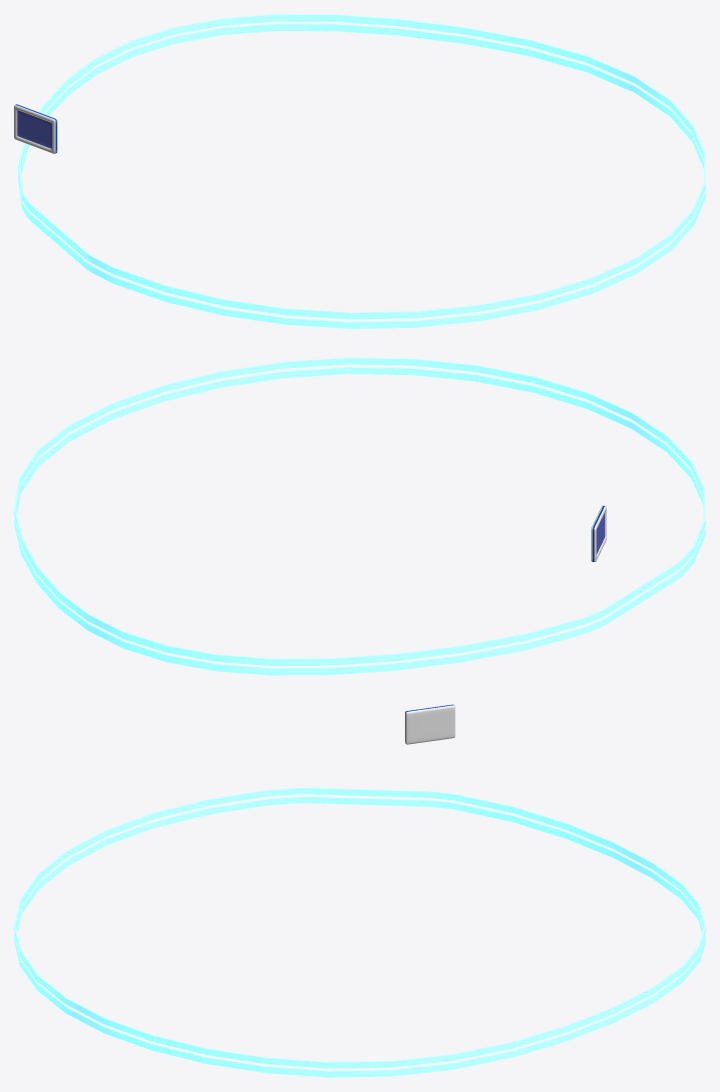
Rendered from tela_chat_office.fbx.
3 renders of one model, top to bottom at view 1: azimuth 30°, elevation 25°; view 2: azimuth 150°, elevation 25°; view 3: azimuth 270°, elevation 25°, orthographic. The views are drawn at different scales.
Parts seen in each view (by area): view 1: anel_reuniao_E, Chatbbule_Office_Screen, Chatbubble_Office_Base; view 2: anel_reuniao_E; view 3: anel_reuniao_E, Chatbubble_Office_Base.
Part boxes in pixels (x1,y1,x2,y2): anel_reuniao_E: (18,14,705,328); Chatbbule_Office_Screen: (17,110,51,148); Chatbubble_Office_Base: (14,104,57,153); anel_reuniao_E: (14,357,705,675); anel_reuniao_E: (14,787,705,1077); Chatbubble_Office_Base: (405,704,455,744).
Bounding box in the file's own units: 18.1 × 19.24 × 3.12.
